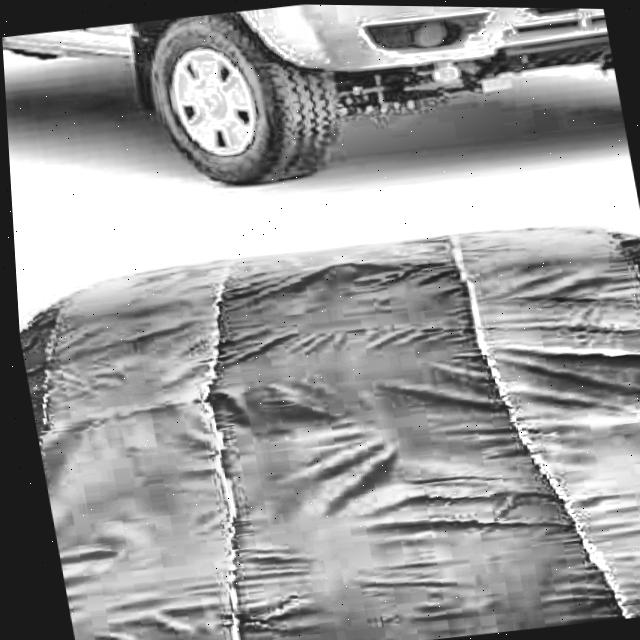light_vehicle: (0, 0, 631, 230)
